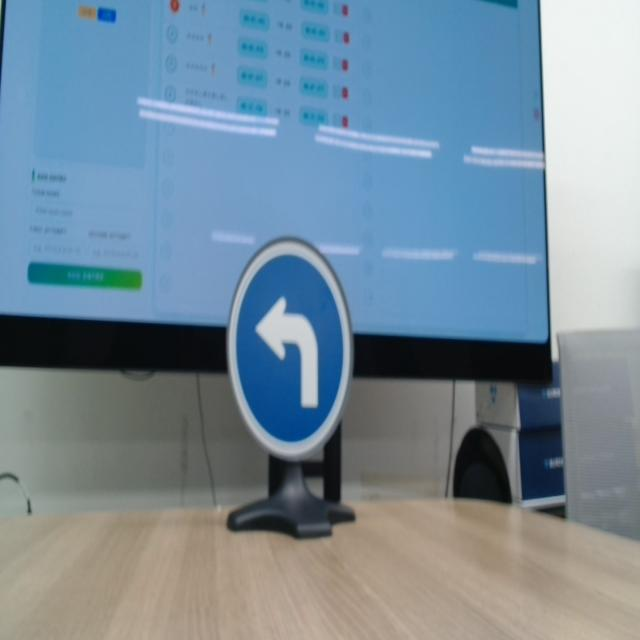left_direction: (223, 228, 369, 469)
